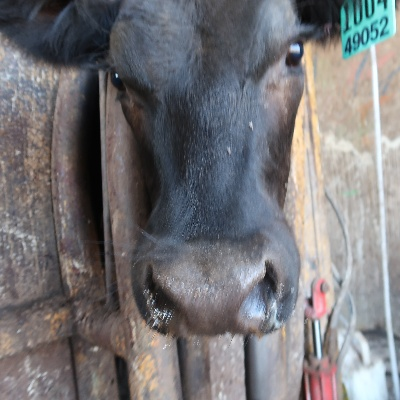fidget_spinner: (138, 239, 282, 342)
